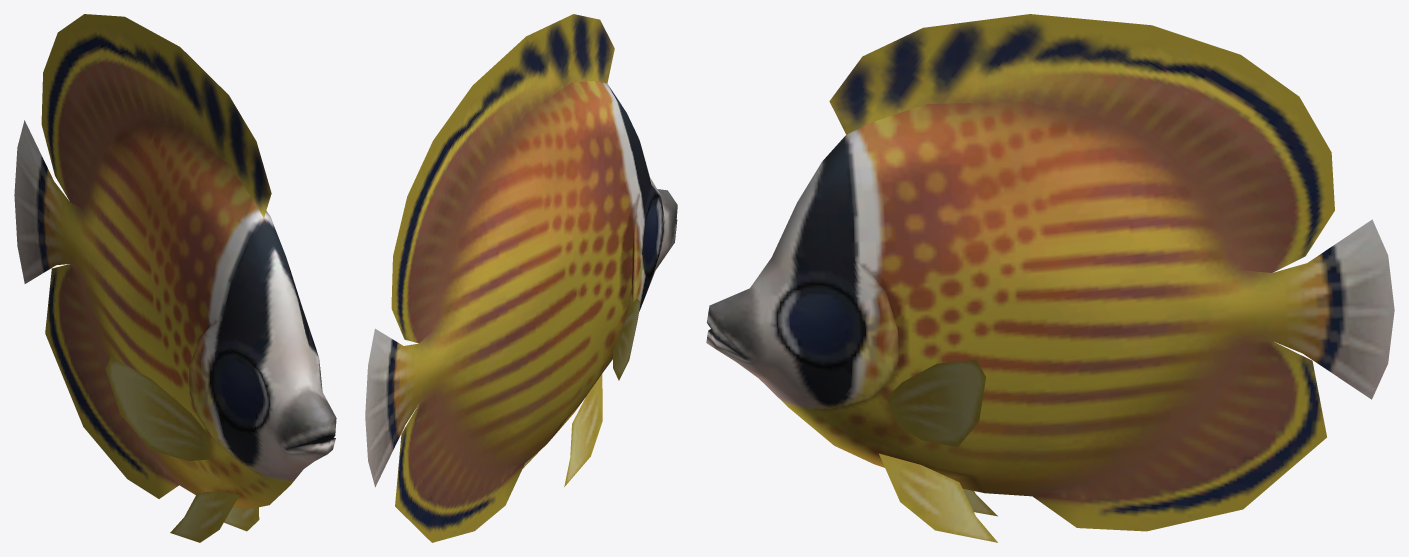
Rendered from FishChouchouuo.glb.
3 views of the same model, side by side, from view 1: azimuth 30°, elevation 25°; view 2: azimuth 150°, elevation 25°; view 3: azimuth 270°, elevation 25° (orthographic). The views are drawn at different scales.
Visible parts, largest first — view 1: FishChouchouuo__mChouchouuo; view 2: FishChouchouuo__mChouchouuo; view 3: FishChouchouuo__mChouchouuo.
Boxes of the visible parts, x1,y1,x2,y2 form: FishChouchouuo__mChouchouuo: (14, 14, 336, 542); FishChouchouuo__mChouchouuo: (365, 14, 677, 542); FishChouchouuo__mChouchouuo: (706, 14, 1394, 542).
Bounding box in the file's own units: 1.39 × 3.3 × 3.98.
1 material, 1 textured.
